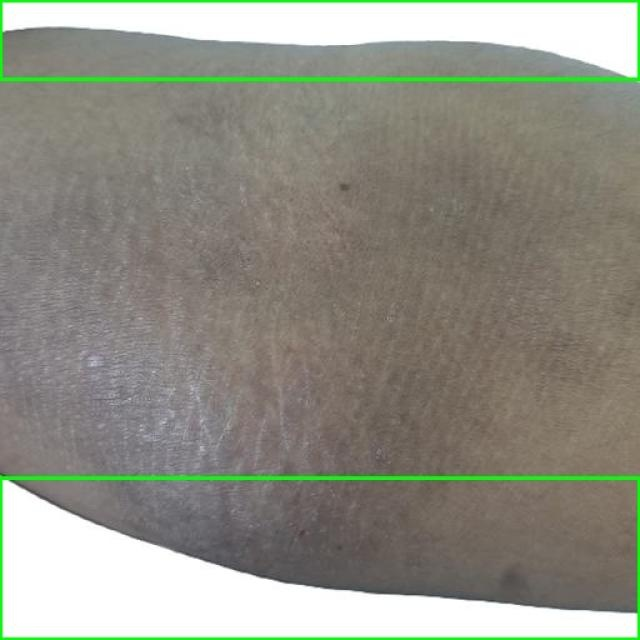Contact Dermatitis: (0, 478, 639, 639), (0, 0, 639, 79)
